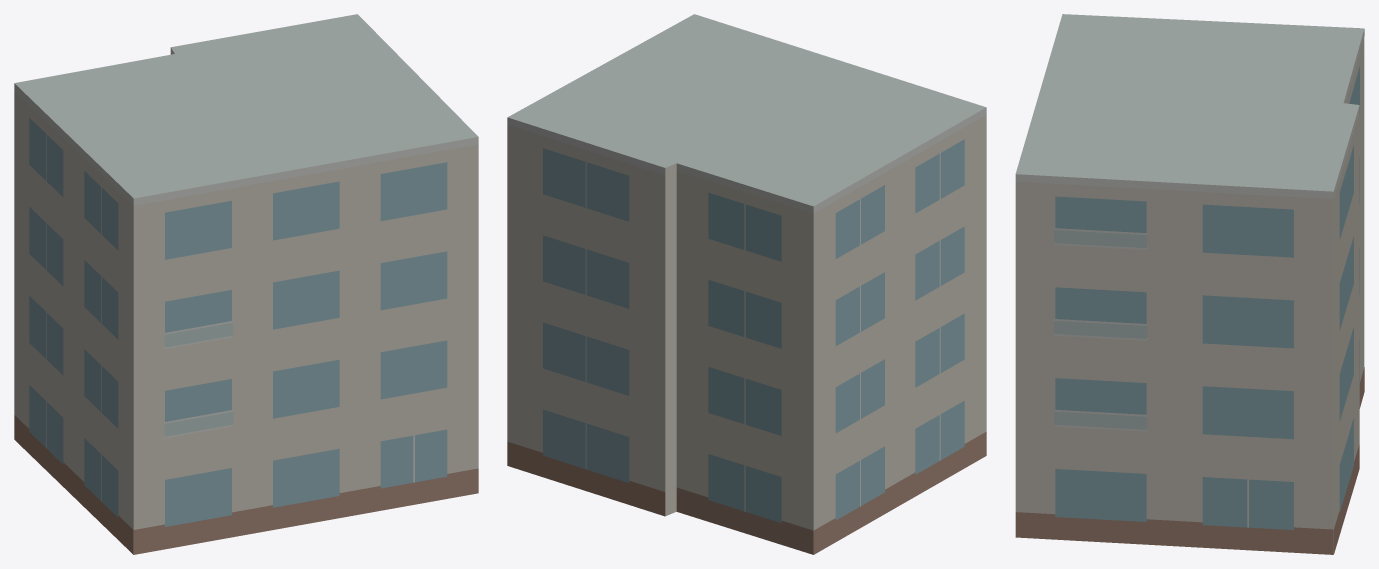
The model's file is survey-upis-33038962.glb.
3 renders of one model, left to right at view 1: azimuth 30°, elevation 25°; view 2: azimuth 150°, elevation 25°; view 3: azimuth 270°, elevation 25°, orthographic. The views are drawn at different scales.
Parts seen in each view (by area): view 1: survey-upis-33038962.tmp; view 2: survey-upis-33038962.tmp; view 3: survey-upis-33038962.tmp.
Part boxes in pixels (x1,y1,x2,y2): survey-upis-33038962.tmp: [14, 14, 478, 554]; survey-upis-33038962.tmp: [507, 14, 986, 554]; survey-upis-33038962.tmp: [1015, 14, 1364, 554].
Size of the model in its own units: 12.33 by 11.75 by 10.24.
